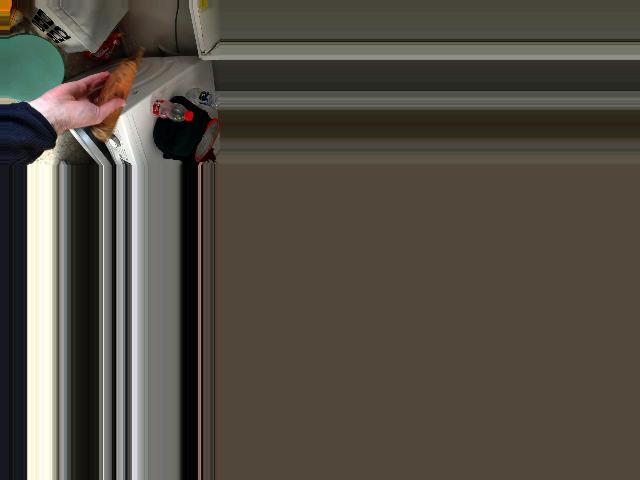sweet_potato: (92, 68, 139, 135)
